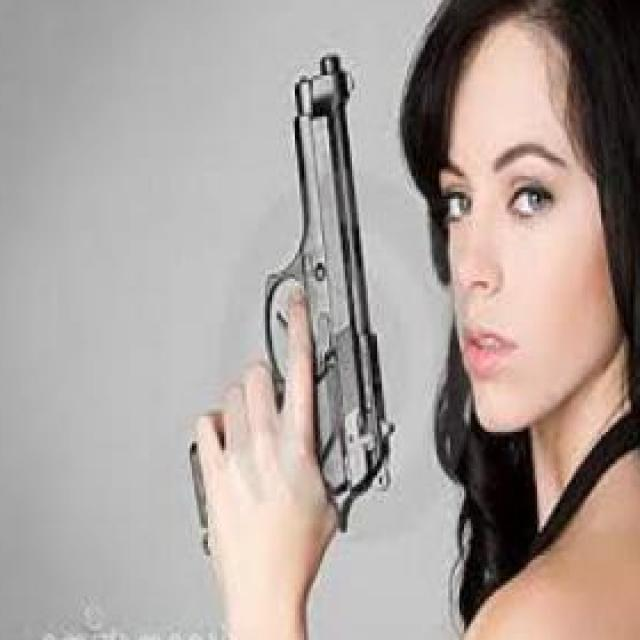pistol: (192, 52, 400, 559)
